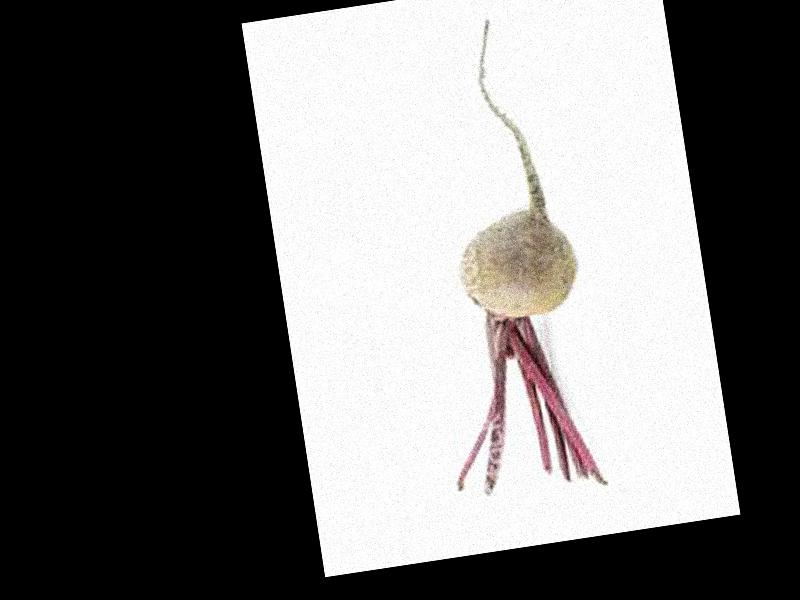Beet: (391, 9, 608, 504)
